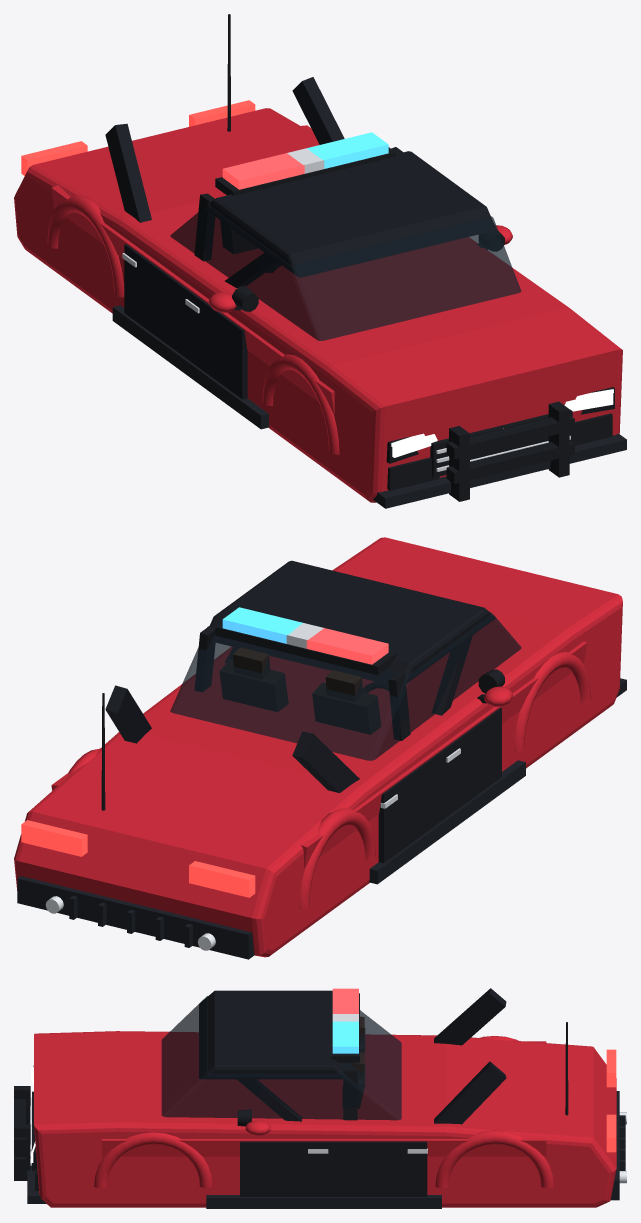
File: car_police.glb
3 renders of one model, top to bottom at view 1: azimuth 30°, elevation 25°; view 2: azimuth 150°, elevation 25°; view 3: azimuth 270°, elevation 25°, orthographic. The views are drawn at different scales.
Parts seen in each view (by area): view 1: car_police; view 2: car_police; view 3: car_police.
Boxes of the visible parts, x1=… form: car_police: x1=14, y1=14, x2=626, y2=508; car_police: x1=14, y1=537, x2=626, y2=959; car_police: x1=14, y1=988, x2=626, y2=1208.
Size of the model in its own units: 2.28 by 1.5 by 5.1.
